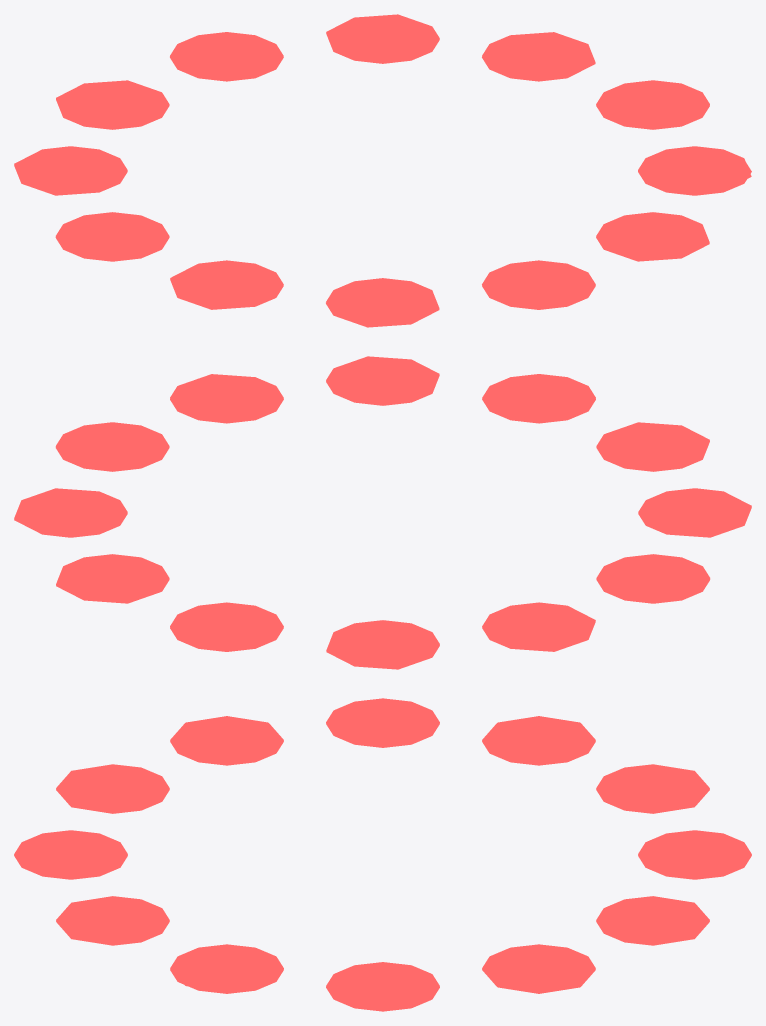
Rendered from prop_gut_slots_lod1.glb.
3 views of the same model, one above another, from view 1: azimuth 30°, elevation 25°; view 2: azimuth 150°, elevation 25°; view 3: azimuth 270°, elevation 25° (orthographic).
Parts seen in each view (by area): view 1: prop_gut_slots_lod1; view 2: prop_gut_slots_lod1; view 3: prop_gut_slots_lod1.
Boxes of the visible parts, left/top/right/bottom form: prop_gut_slots_lod1: left=14, top=14, right=751, bottom=327; prop_gut_slots_lod1: left=14, top=356, right=751, bottom=669; prop_gut_slots_lod1: left=14, top=698, right=751, bottom=1011.
Bounding box in the file's own units: 9.7 × 0.02 × 9.7.
